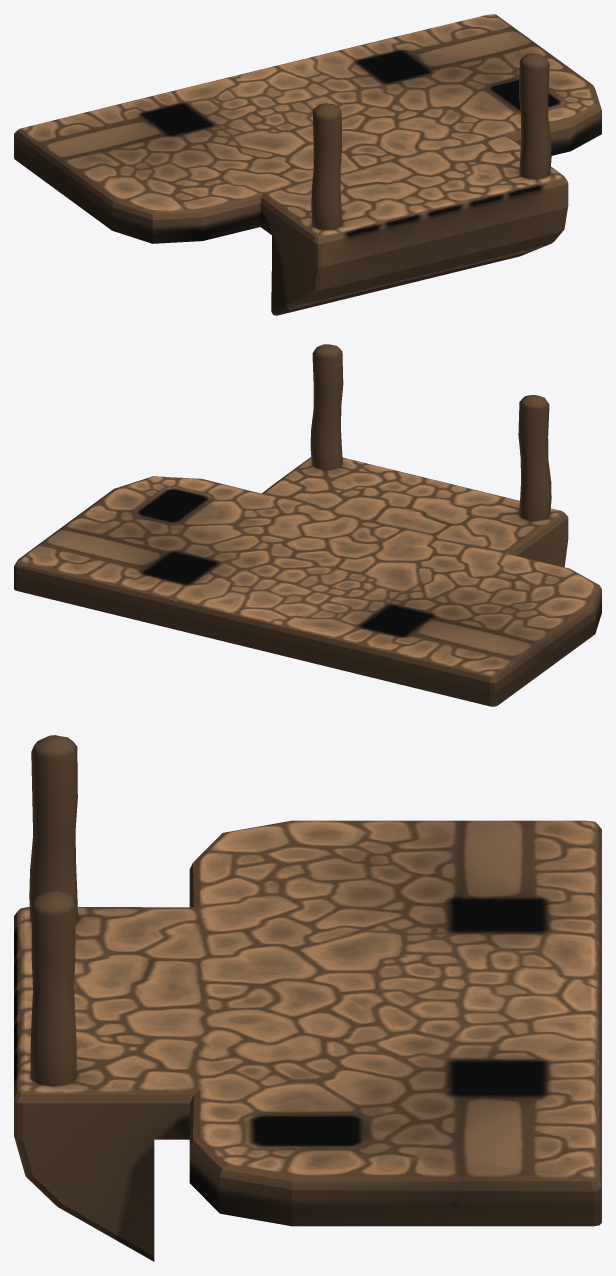
Rendered from castleEntrance_model.glb.
The picture shows the model from 3 angles, top to bottom: view 1: azimuth 30°, elevation 25°; view 2: azimuth 150°, elevation 25°; view 3: azimuth 270°, elevation 25°; orthographic projection. The views are drawn at different scales.
Parts seen in each view (by area): view 1: castleEntrance_t3; view 2: castleEntrance_t3; view 3: castleEntrance_t3.
Boxes of the visible parts, x1,y1,x2,y2 form: castleEntrance_t3: (14,14,601,315); castleEntrance_t3: (14,344,601,706); castleEntrance_t3: (14,735,601,1261).
Size of what is drawn, in the model's own units: 8.46 by 3.84 by 5.77.
1 material, 1 textured.
